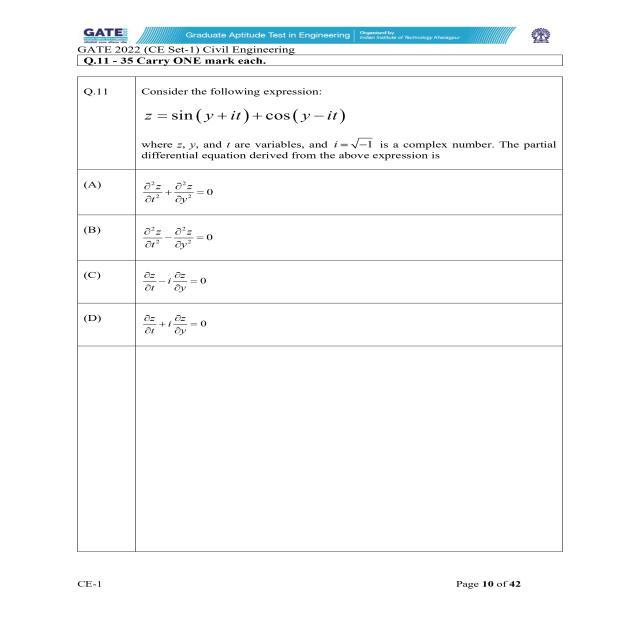Answer_Block: (75, 170, 563, 344)
Question_Answer_Block: (75, 76, 563, 347)
Question_Block: (75, 74, 565, 169)
Question_Paper_Area: (76, 43, 563, 550)
